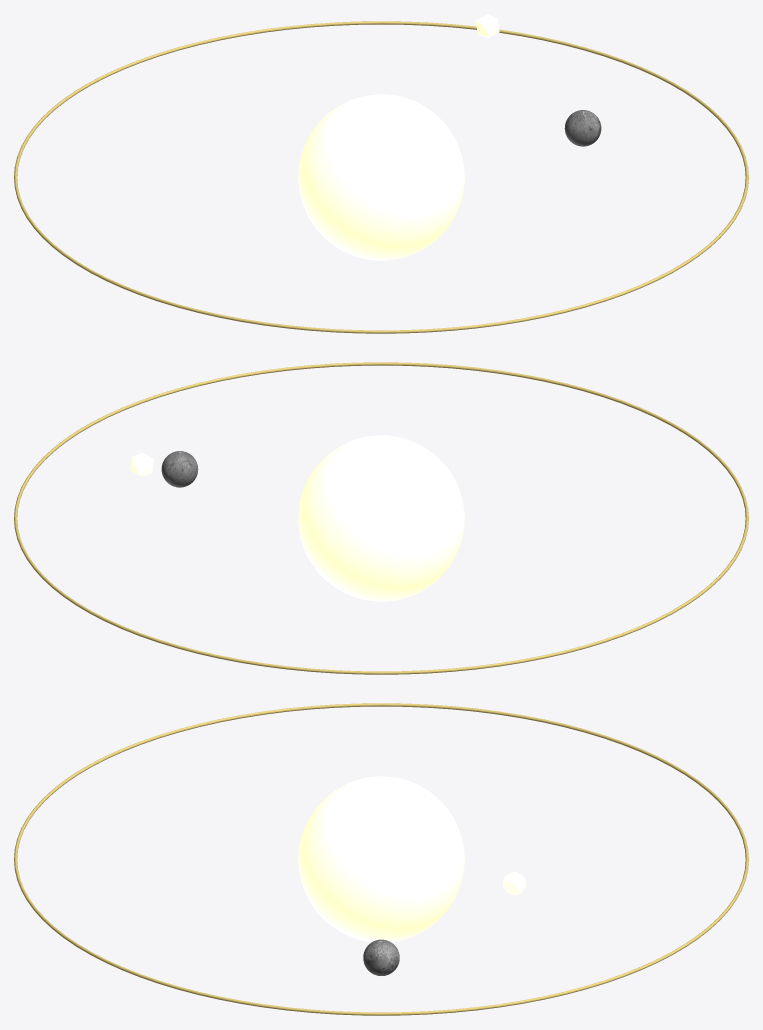
Rendered from universe-scale.glb.
3 renders of one model, top to bottom at view 1: azimuth 30°, elevation 25°; view 2: azimuth 150°, elevation 25°; view 3: azimuth 270°, elevation 25°, orthographic.
Parts seen in each view (by area): view 1: Uni_Sun, Uni_AU, Uni_Moon; view 2: Uni_Sun, Uni_AU, Uni_Moon; view 3: Uni_Sun, Uni_AU, Uni_Moon.
Boxes of the visible parts, x1=… form: Uni_Sun: x1=298, y1=94, x2=464, y2=260; Uni_AU: x1=14, y1=21, x2=748, y2=333; Uni_Moon: x1=564, y1=110, x2=601, y2=146; Uni_Sun: x1=298, y1=435, x2=464, y2=601; Uni_AU: x1=14, y1=362, x2=748, y2=674; Uni_Moon: x1=161, y1=451, x2=198, y2=487; Uni_Sun: x1=298, y1=776, x2=464, y2=941; Uni_AU: x1=14, y1=703, x2=748, y2=1015; Uni_Moon: x1=363, y1=939, x2=399, y2=975.
Size of the model in its own units: 4.42 by 1 by 4.42.
4 materials, 2 textured.
